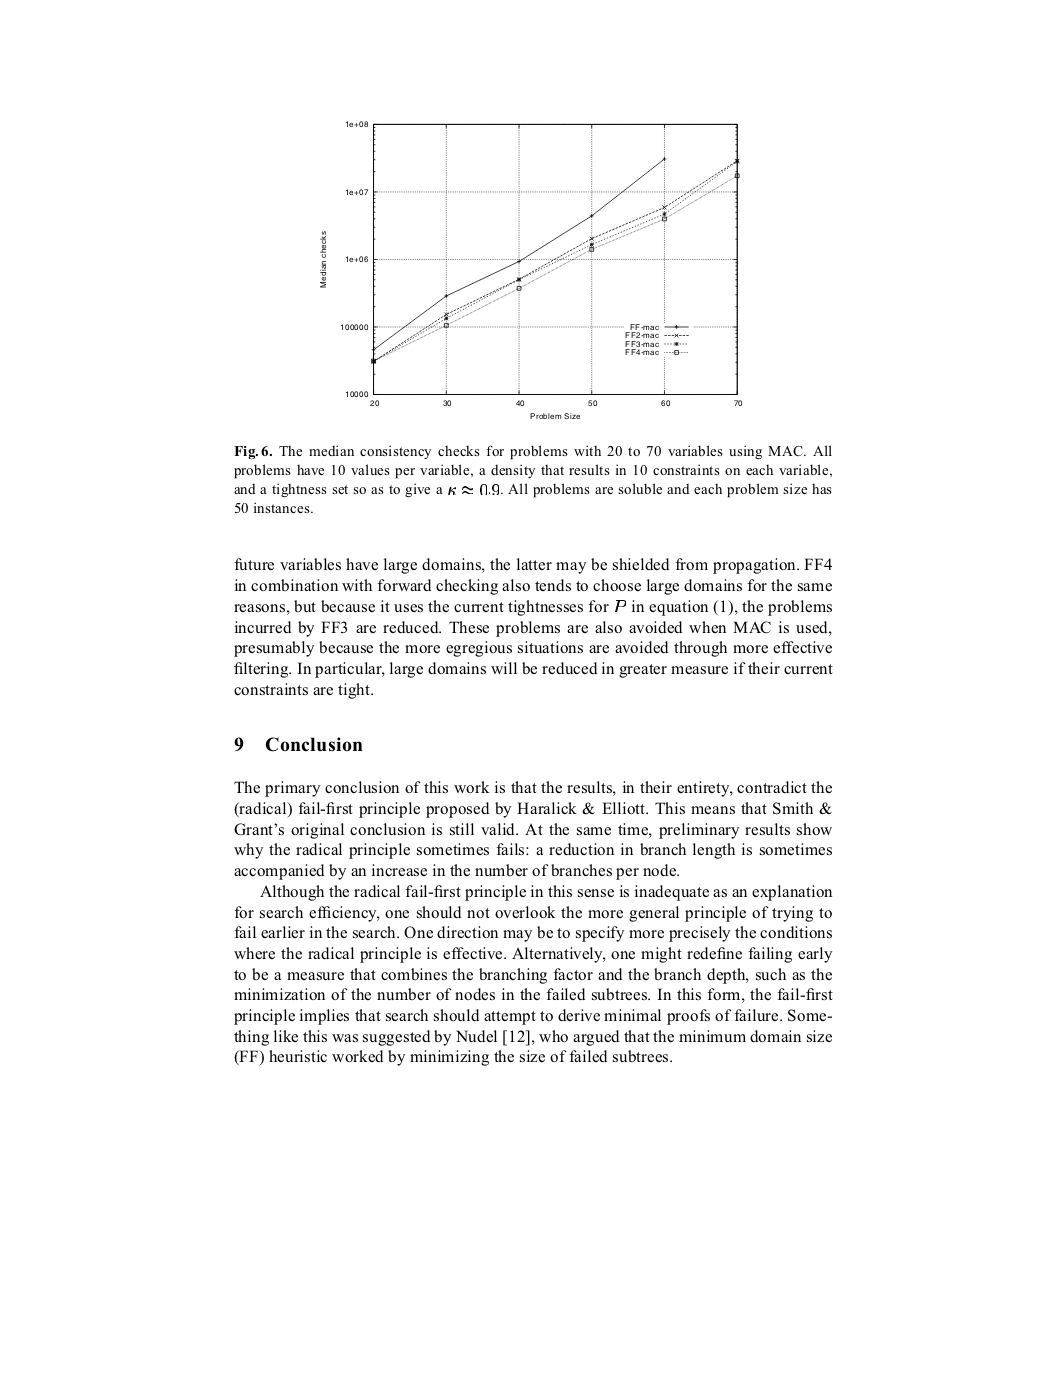figure: (320, 121, 742, 419)
